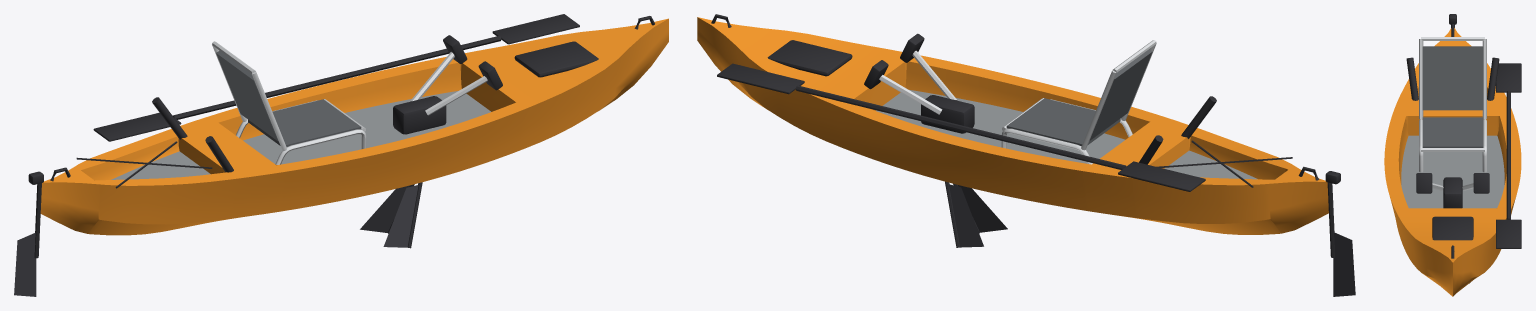
File: pedal-kayak.glb
3 views of the same model, side by side, from view 1: azimuth 30°, elevation 25°; view 2: azimuth 150°, elevation 25°; view 3: azimuth 270°, elevation 25° (orthographic). The views are drawn at different scales.
Visible parts, largest first — view 1: hull, seat_pan, seat_back, paddle_shaft, bow_hatch, drive_housing, paddle_blade_1.1, rudder_blade, paddle_blade_-0.8, fin_-1, fin_1, seat_frame_-1 (+3 smaller); view 2: hull, seat_pan, paddle_shaft, seat_back, bow_hatch, paddle_blade_-0.8, paddle_blade_1.1, drive_housing, rudder_blade, fin_1, fin_-1, seat_frame_1 (+3 smaller); view 3: hull, seat_back, seat_pan, bow_hatch, paddle_blade_1.1, paddle_blade_-0.8, paddle_shaft, drive_housing, pedal_1, pedal_-1, seat_back_frame_1, rod_holder_-1 (+6 smaller).
Boxes of the visible parts, x1,y1,x2,y2 form: hull: (40,18,668,235); seat_pan: (248,99,361,146); seat_back: (216,50,278,141); paddle_shaft: (172,35,501,119); bow_hatch: (514,41,598,77); drive_housing: (393,96,446,134); paddle_blade_1.1: (492,14,579,44); rudder_blade: (14,232,36,296); paddle_blade_-0.8: (93,112,181,141); fin_-1: (383,185,418,247); fin_1: (360,185,409,232); seat_frame_-1: (275,129,366,164); hull: (697,17,1328,234); seat_pan: (1006,98,1120,146); paddle_shaft: (796,85,1126,169); seat_back: (1089,49,1152,140); bow_hatch: (767,40,852,76); paddle_blade_-0.8: (1118,161,1205,191); paddle_blade_1.1: (717,63,804,94); drive_housing: (921,95,974,133); rudder_blade: (1333,232,1355,296); fin_1: (949,184,983,247); fin_-1: (958,185,1007,232); seat_frame_1: (1001,128,1092,164); hull: (1384,28,1521,296); seat_back: (1422,46,1483,110); seat_pan: (1422,117,1483,147); bow_hatch: (1432,216,1473,240); paddle_blade_1.1: (1496,219,1521,248); paddle_blade_-0.8: (1496,63,1521,92); paddle_shaft: (1506,90,1510,219); drive_housing: (1443,177,1462,208); pedal_1: (1473,173,1489,193); pedal_-1: (1416,173,1432,193); seat_back_frame_1: (1482,39,1486,118); rod_holder_-1: (1406,57,1418,100).
Bounding box in the file's own units: 3.81 × 1.26 × 0.8597.
